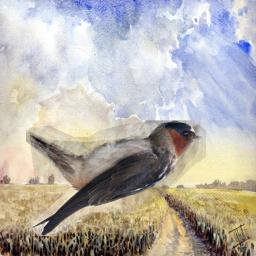Swallow: (26, 120, 206, 236)
